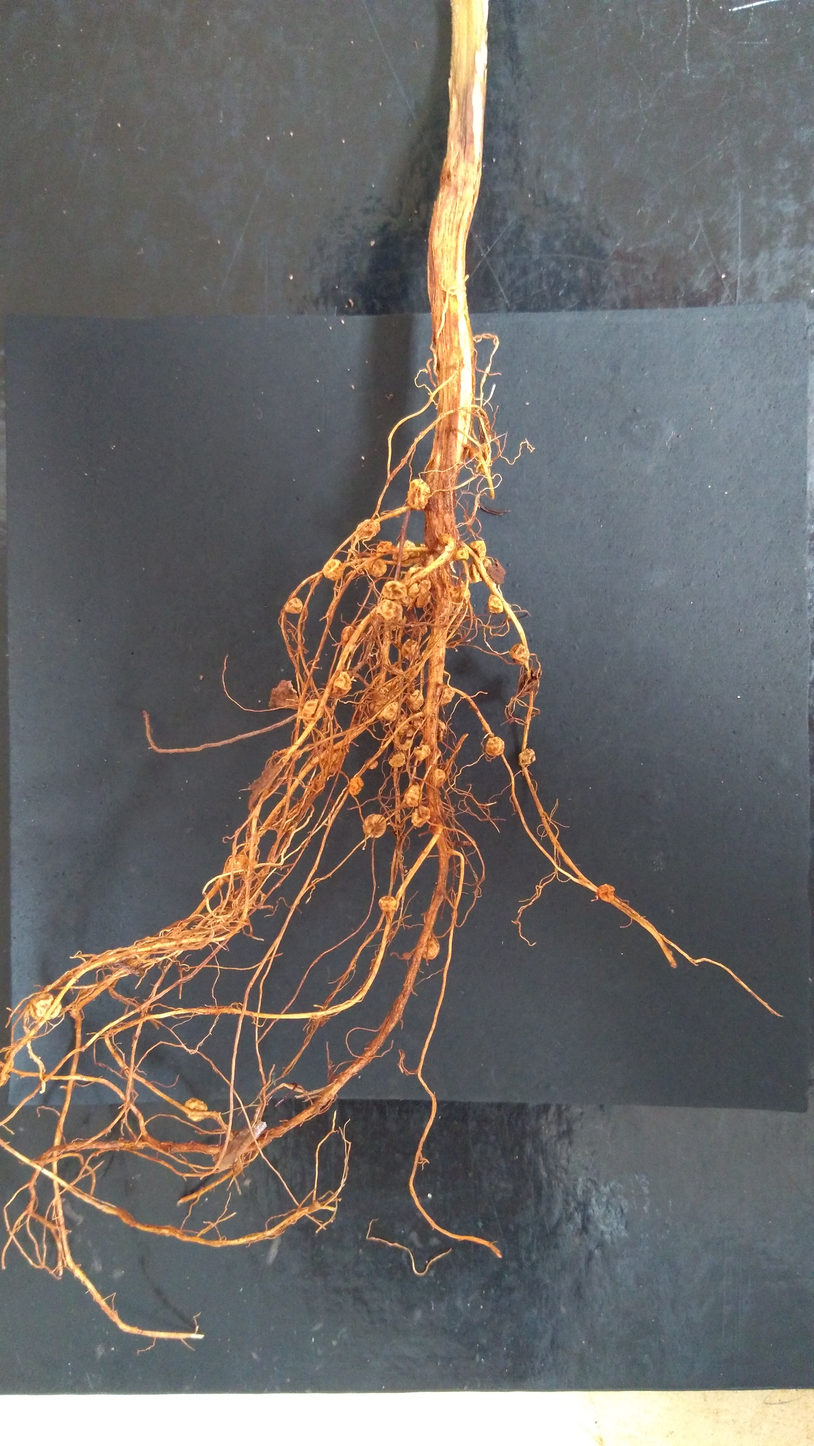nodule: (26, 990, 63, 1022), (368, 687, 400, 723), (405, 563, 432, 599), (516, 667, 542, 700), (406, 478, 431, 512), (224, 852, 258, 876), (392, 540, 420, 567), (465, 557, 493, 583), (375, 598, 404, 623), (362, 813, 388, 839), (183, 1096, 209, 1122), (328, 671, 352, 699), (417, 932, 440, 961), (323, 747, 346, 776), (355, 519, 381, 543), (381, 580, 407, 602), (433, 533, 456, 557), (448, 581, 471, 605), (301, 698, 325, 721), (322, 559, 345, 581), (363, 558, 388, 578), (410, 804, 430, 829), (484, 736, 506, 758), (434, 683, 455, 706), (400, 638, 420, 662), (395, 713, 415, 737), (402, 784, 422, 807), (595, 883, 616, 904), (393, 730, 414, 751), (510, 643, 529, 665), (384, 679, 403, 701), (406, 688, 424, 711), (387, 749, 407, 769), (518, 747, 537, 768), (408, 711, 427, 731), (284, 597, 304, 615), (378, 895, 398, 913), (341, 625, 356, 648), (468, 540, 487, 558), (413, 744, 432, 762), (432, 766, 446, 789), (348, 776, 364, 796), (488, 593, 503, 614), (416, 590, 432, 609), (436, 717, 447, 743), (395, 593, 412, 608), (479, 441, 491, 462), (453, 547, 469, 561), (306, 1199, 323, 1212), (343, 570, 365, 580), (376, 541, 393, 553), (414, 624, 429, 637), (364, 757, 379, 770), (291, 747, 304, 761), (468, 446, 478, 460), (401, 951, 413, 961), (420, 543, 426, 548)
